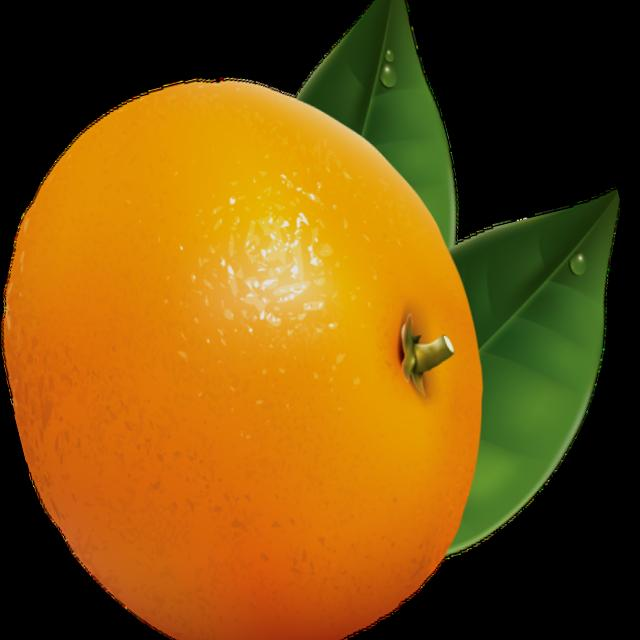orange: (0, 26, 541, 640)
